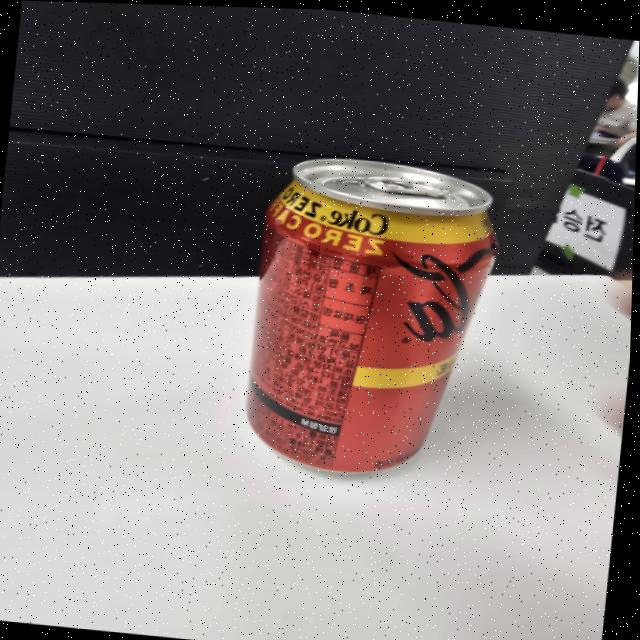can_coke_decaf: (247, 159, 497, 472)
